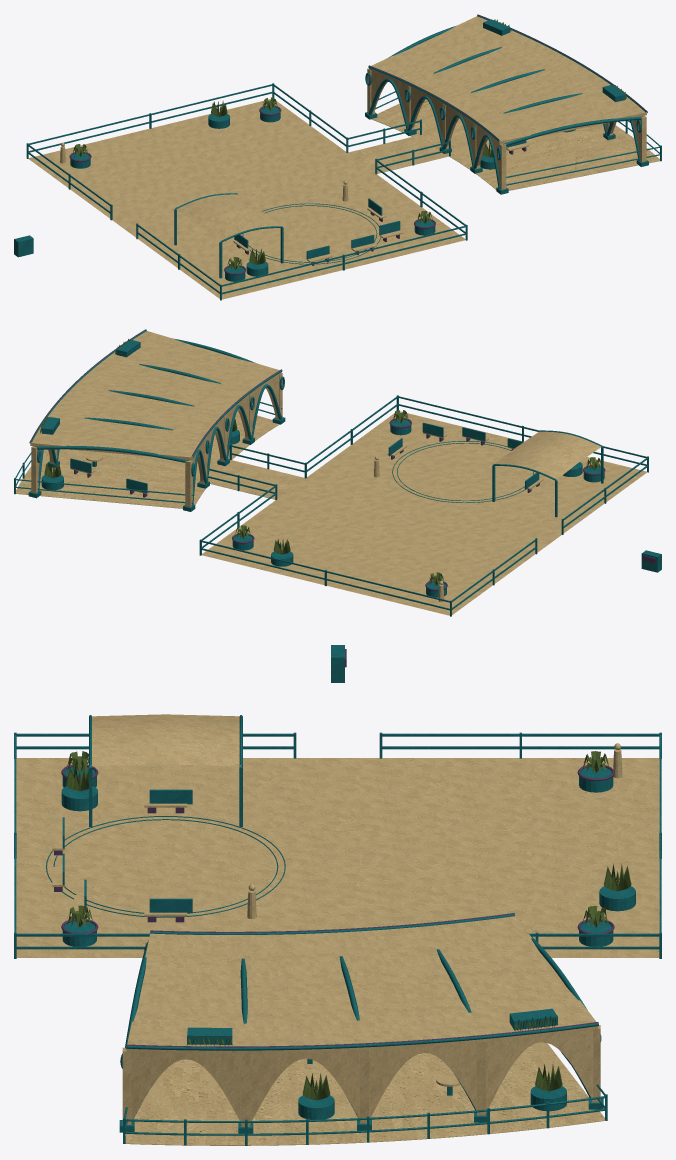
Rendered from commons_painted.glb.
3 views of the same model, one above another, from view 1: azimuth 30°, elevation 25°; view 2: azimuth 150°, elevation 25°; view 3: azimuth 270°, elevation 25° (orthographic). The views are drawn at different scales.
Parts seen in each view (by area): view 1: Commons painted kit; view 2: Commons painted kit; view 3: Commons painted kit.
Boxes of the visible parts, bbox=[...] form: Commons painted kit: bbox=[14, 14, 661, 300]; Commons painted kit: bbox=[14, 329, 661, 616]; Commons painted kit: bbox=[14, 645, 661, 1145].
Size of the model in its own units: 52.31 by 5 by 30.12.
1 material, 1 textured.
